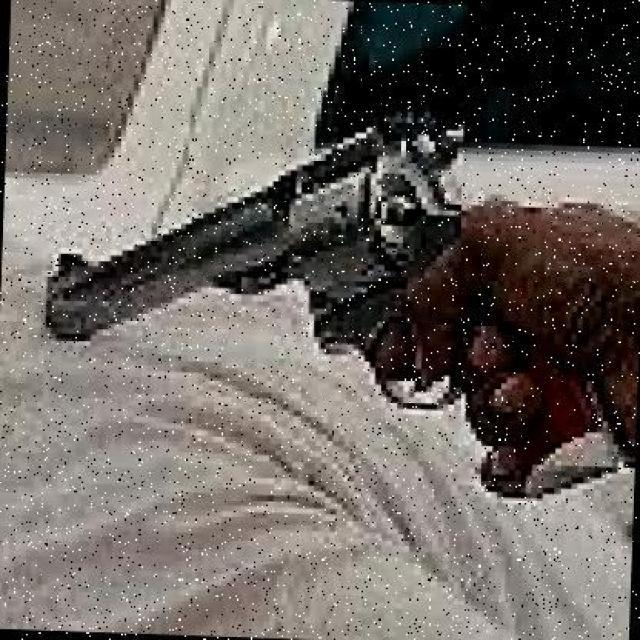rifle: (374, 183, 640, 532), (45, 168, 298, 340), (259, 117, 405, 380), (329, 106, 480, 220), (334, 322, 456, 418)
